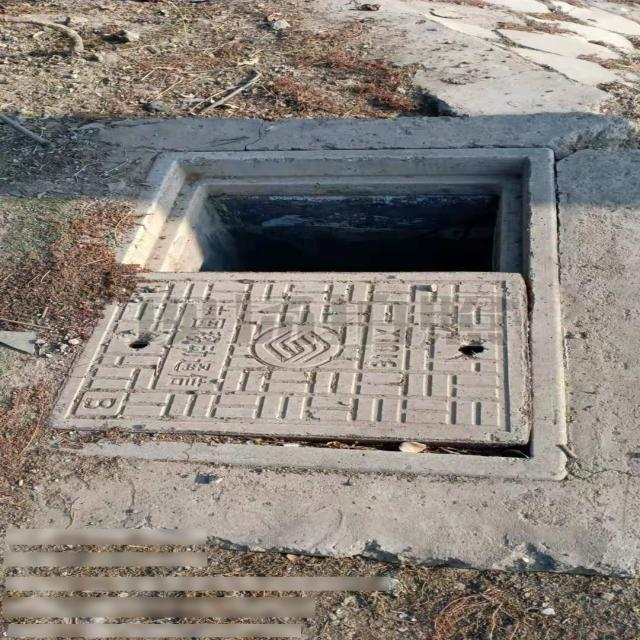Faulty: (44, 146, 568, 482)
